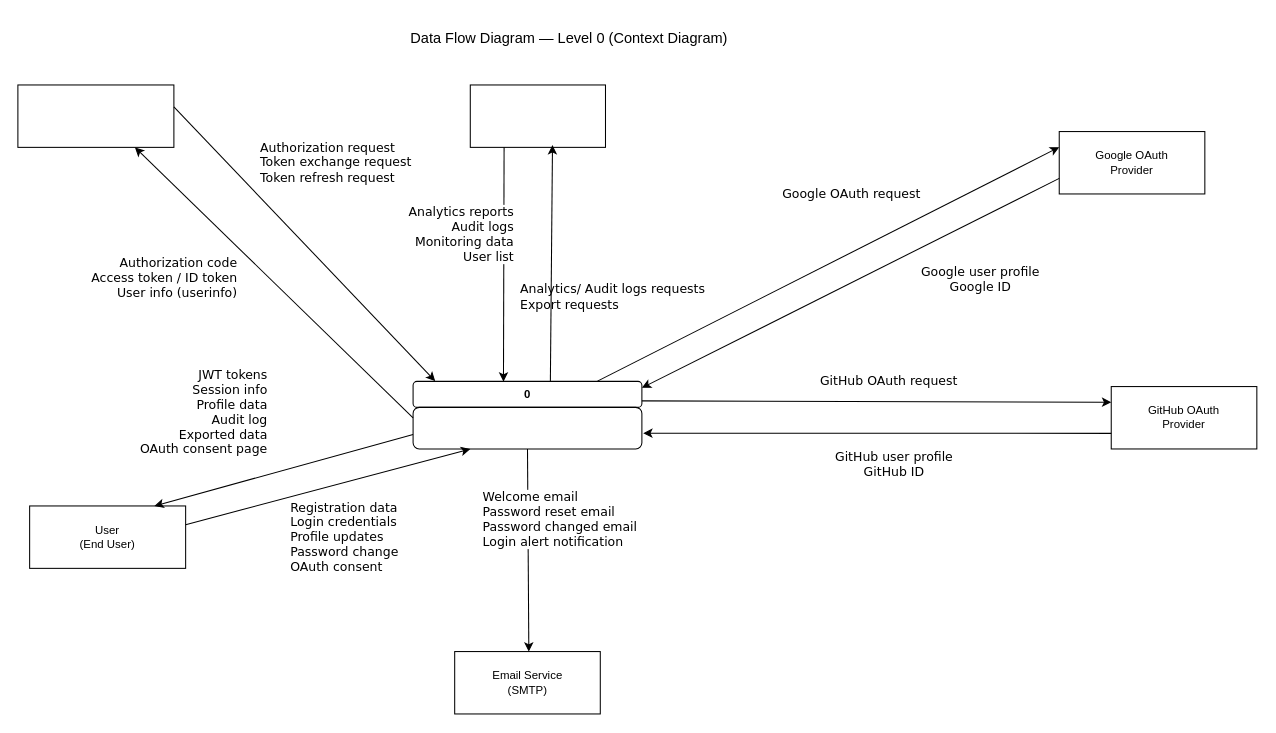
Some shapes in this 1276 by 733 pixel diagram are drawn without their labels. Here are the shapes that lost their labels. From the top down, the centre of each, then its label:
At pixel 95 115: "OAuth Client Application".
At pixel 537 115: "Admin".
At pixel 527 427: "TAS Authentication Server".
